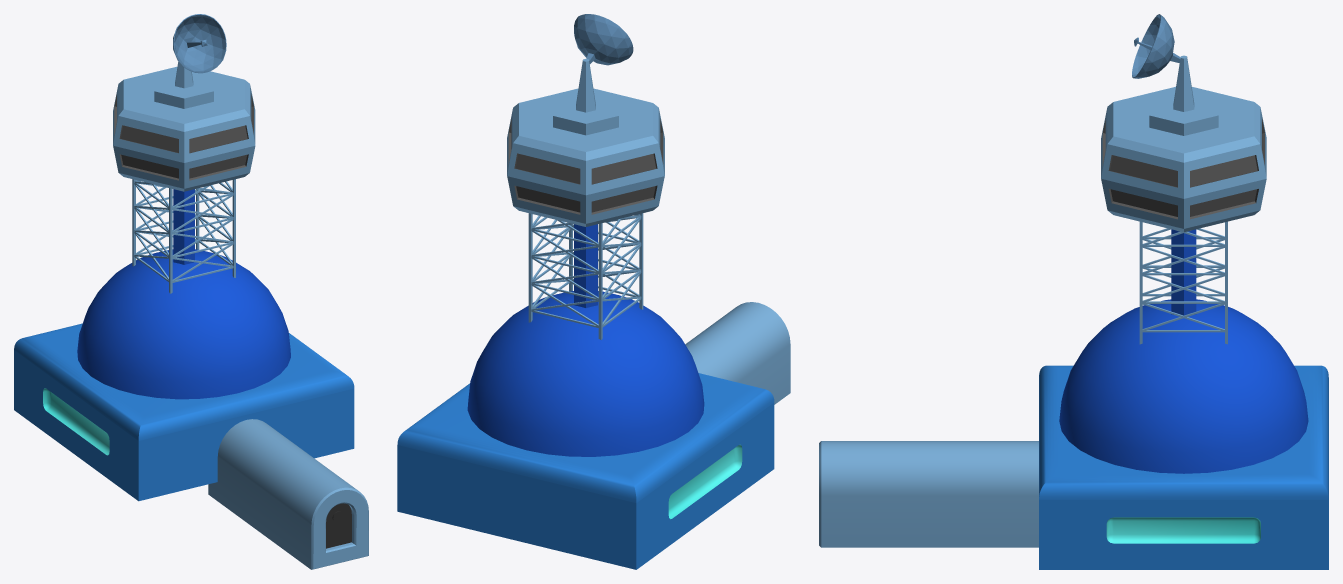
File: M_House.fbx
3 renders of one model, left to right at view 1: azimuth 30°, elevation 25°; view 2: azimuth 150°, elevation 25°; view 3: azimuth 270°, elevation 25°, orthographic. The views are drawn at different scales.
Parts seen in each view (by area): view 1: M_House; view 2: M_House; view 3: M_House.
Boxes of the visible parts, box(x1,y1,x2,y2) form: M_House: box(14, 14, 368, 569); M_House: box(397, 14, 790, 569); M_House: box(819, 14, 1328, 569).
Size of the model in its own units: 30 by 58.62 by 52.75.
1 material, 1 textured.
